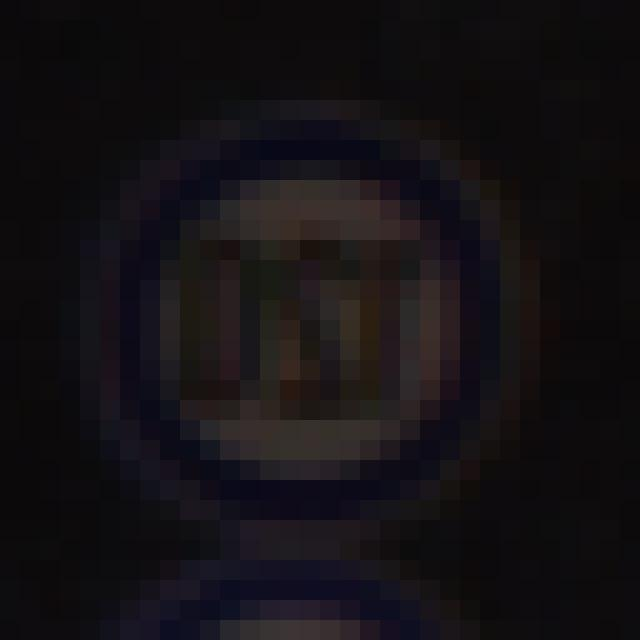SPEED LIMIT 120: (97, 135, 500, 519)
